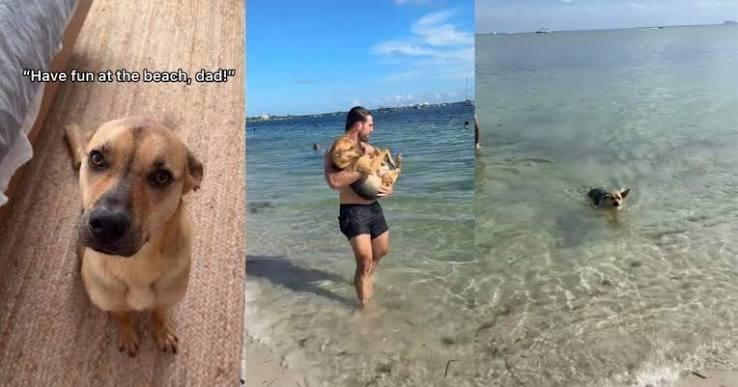adult_dog: (63, 113, 208, 357), (325, 138, 403, 200), (587, 185, 631, 209)
non-dog: (324, 106, 392, 309)
